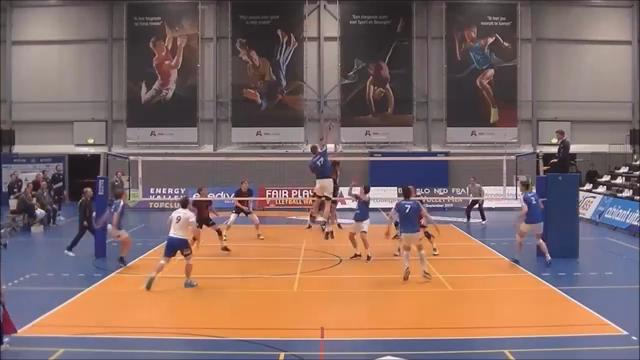Attack: (305, 127, 334, 233)
Block: (322, 136, 344, 233)
Player: (385, 186, 438, 280), (145, 197, 196, 289), (512, 179, 551, 264), (98, 189, 130, 266), (223, 180, 263, 240), (192, 188, 229, 251), (348, 183, 371, 261), (420, 218, 438, 255)
ball: (327, 121, 334, 131)
